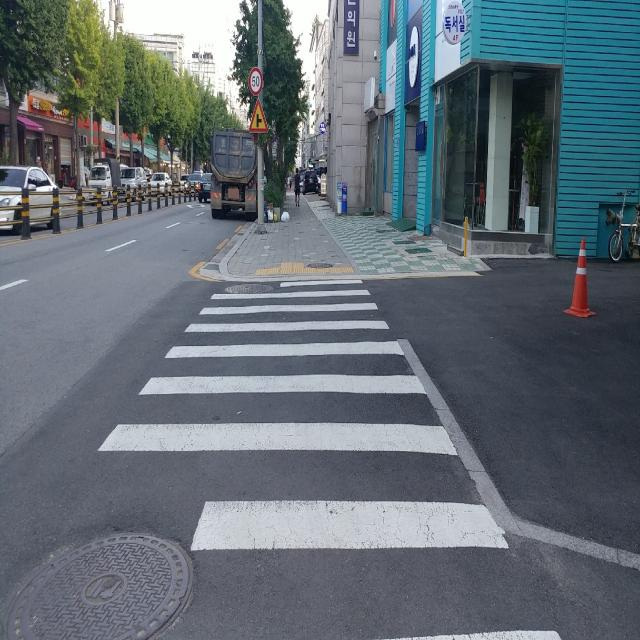횡단보도: (96, 278, 564, 639)
